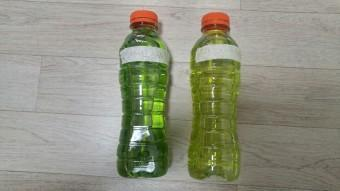bottle: (115, 9, 172, 178), (189, 12, 245, 180)
